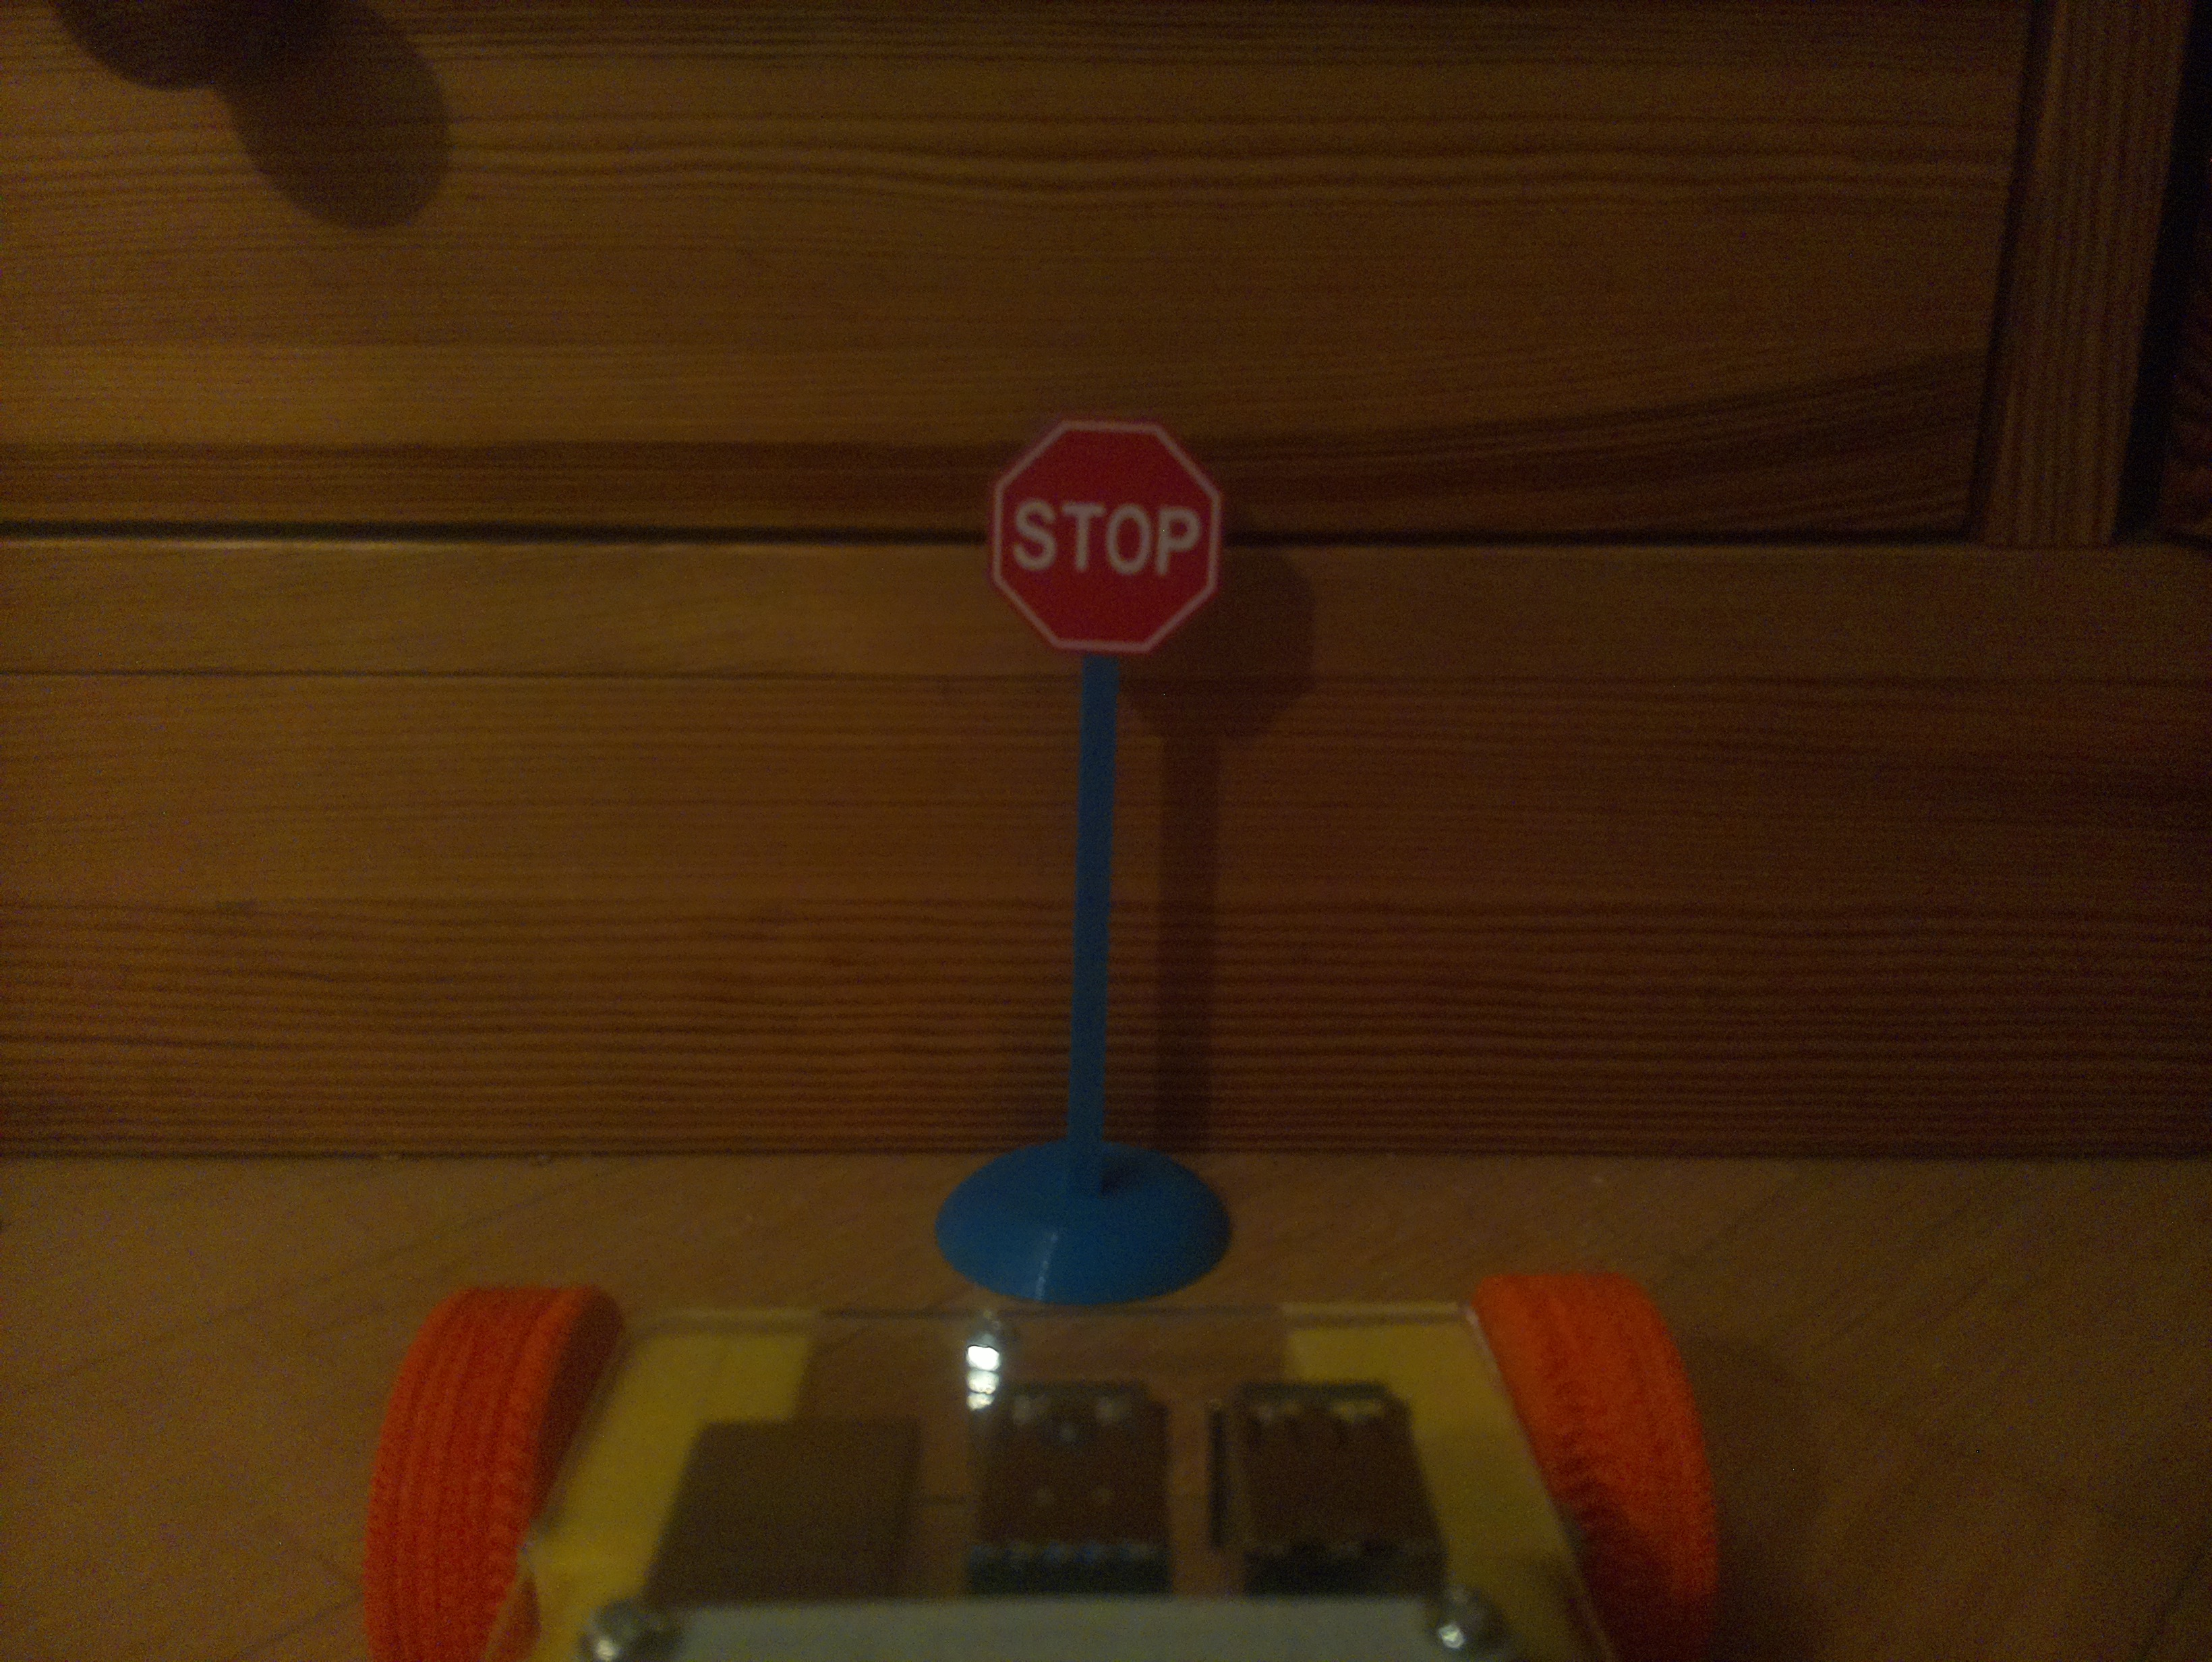stop: (988, 416, 1226, 655)
